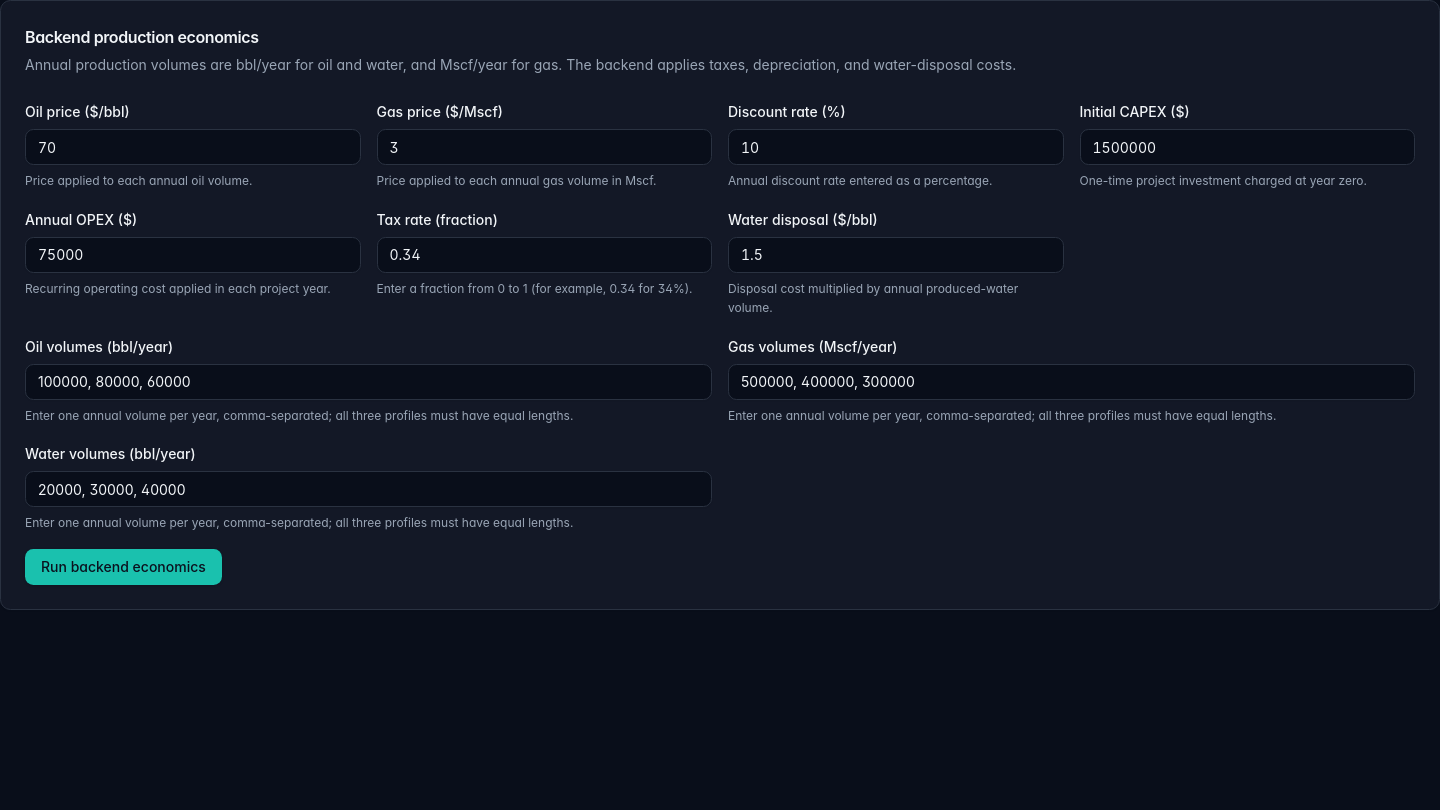
Test: ProductionEconomicsEnginePanel › submits all economic assumptions and annual volume profiles
What coordinates should you click on to do the following:
click the button "Run backend economics"
I would click on:
 (123, 566)
Its box is [25,548,222,584].
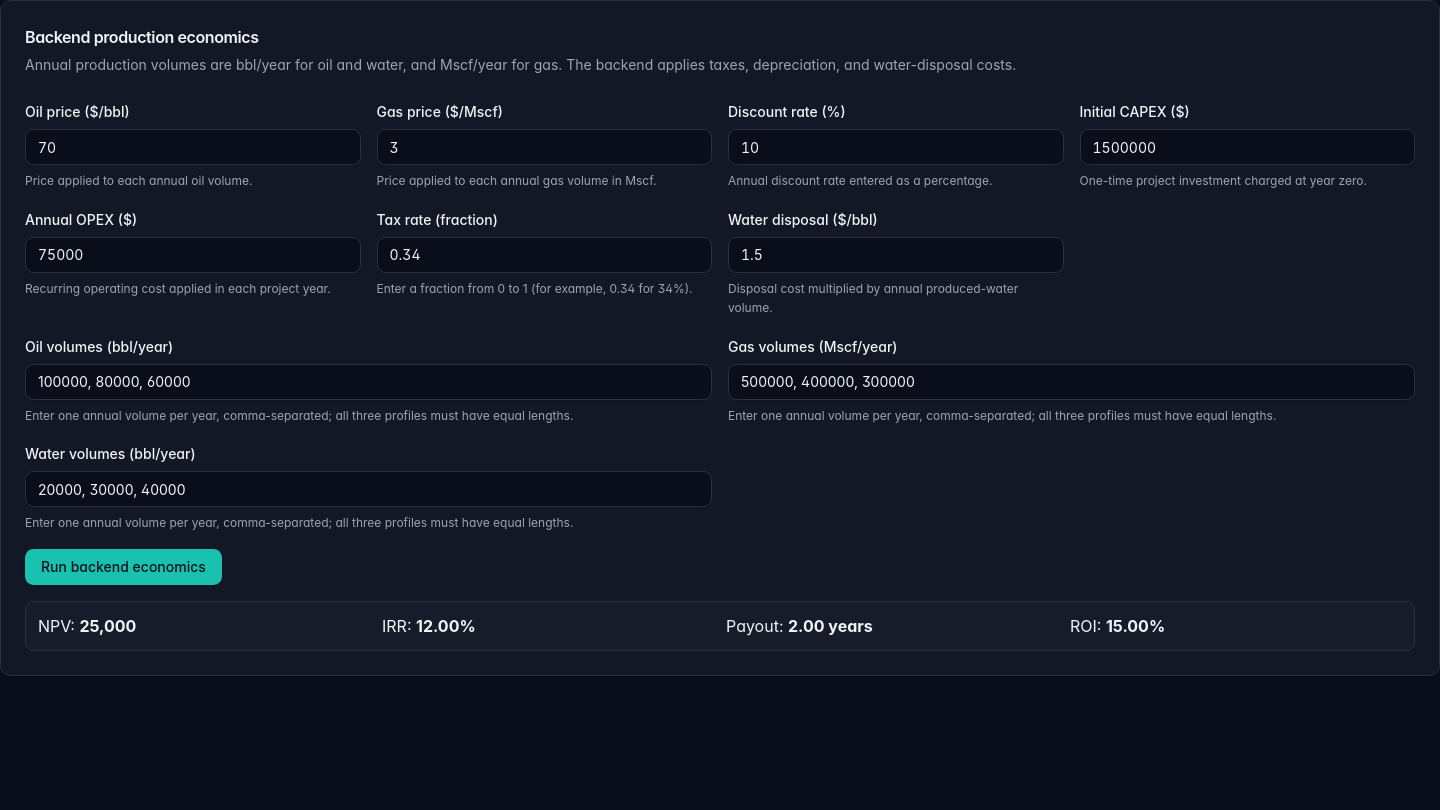
Now the text "NPV: 25,000" is shown, box [38,616,136,636]
Now the text "12.00%" is shown, box [416,616,476,636]
